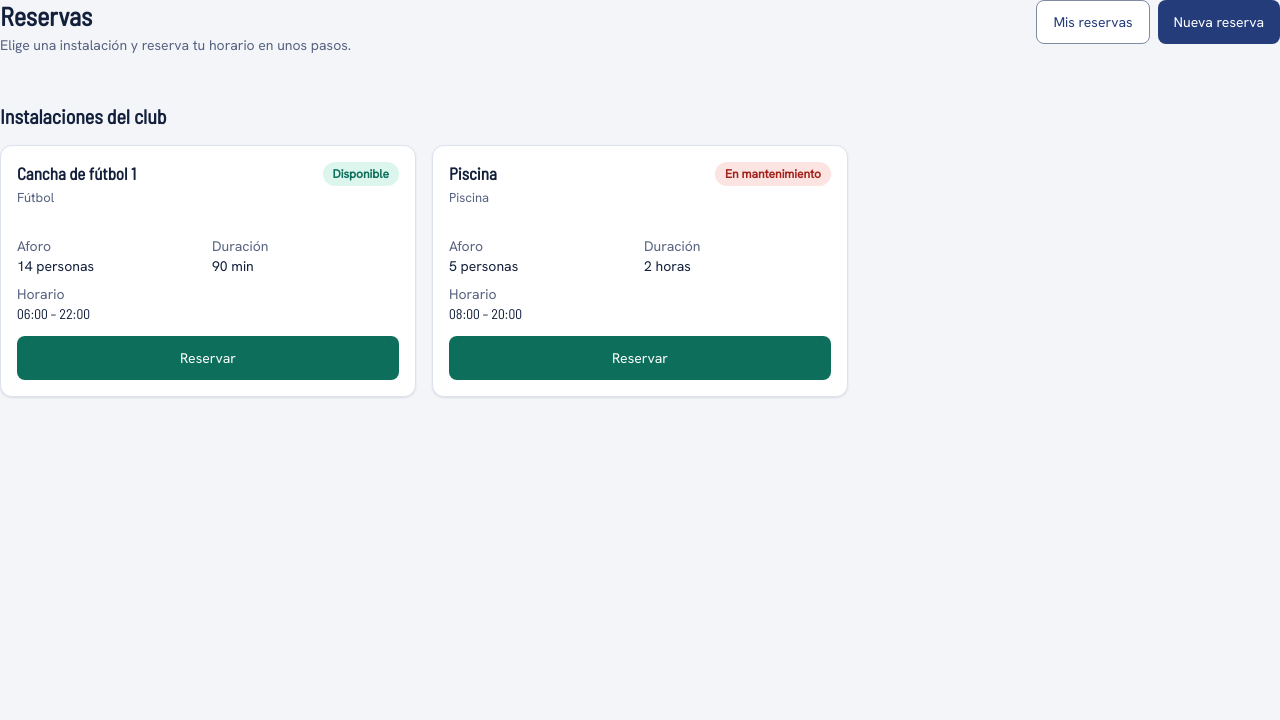
Test: ReservationsPage — catálogo (US-028, US-073) › muestra un aviso cuando el día no tiene franjas libres, sin tratarlo como error
This screenshot has width=1280, height=720.
Expected: the heading "Cancha de fútbol 1" is shown, [17,162,136,185]
What coordinates should you click on to do the following:
click the button with aria-label "Reservar Cancha de fútbol 1"
I would click on:
 (208, 358)
Its box is [17,336,399,380].
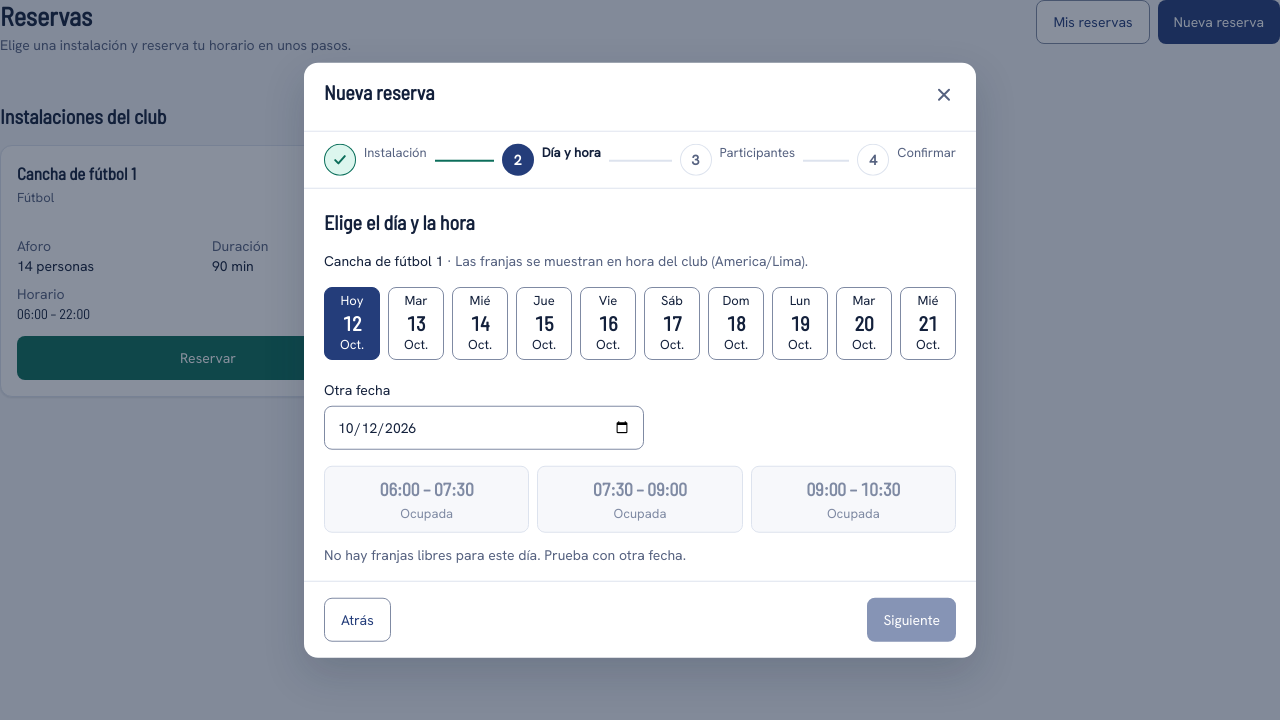
Now the text "No hay franjas libres para este día. Prueba con otra fecha." is shown, box [324,545,686,563]
